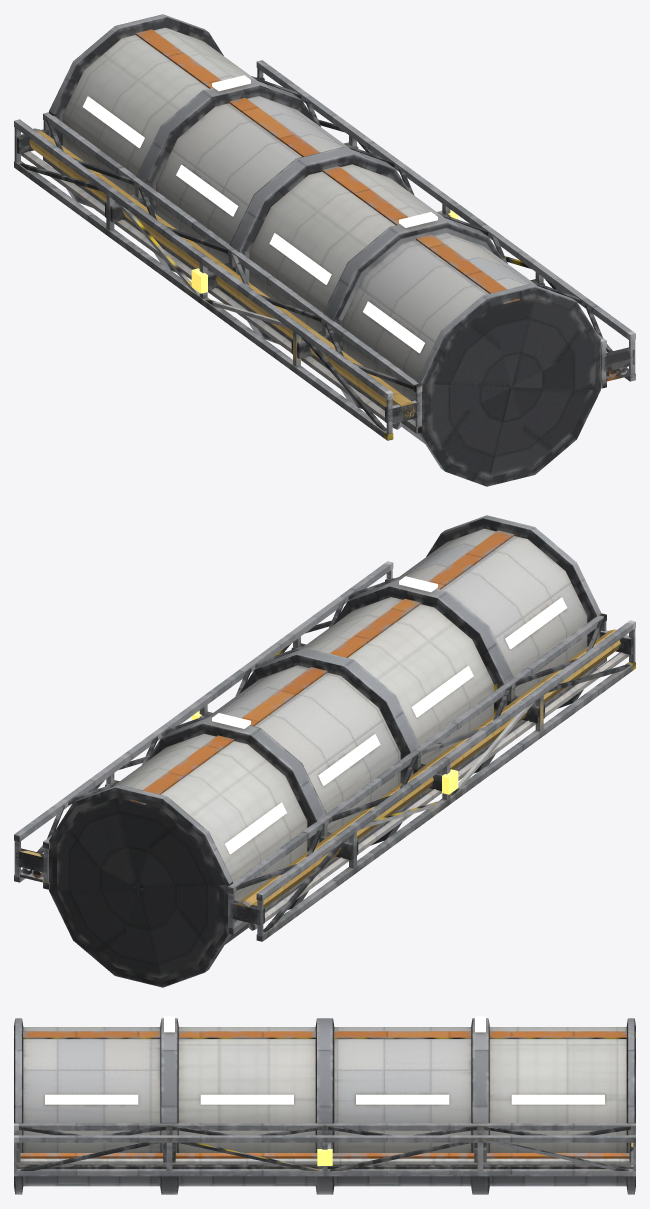
The model's file is corridor_segment.glb.
The picture shows the model from 3 angles, top to bottom: view 1: azimuth 30°, elevation 25°; view 2: azimuth 150°, elevation 25°; view 3: azimuth 270°, elevation 25°; orthographic projection. The views are drawn at different scales.
Visible parts, largest first — view 1: corridor_segment_mesh; view 2: corridor_segment_mesh; view 3: corridor_segment_mesh.
Part boxes in pixels (x1=…): corridor_segment_mesh: x1=14, y1=14, x2=635, y2=486; corridor_segment_mesh: x1=14, y1=515, x2=635, y2=987; corridor_segment_mesh: x1=14, y1=1016, x2=635, y2=1194.
Bounding box in the file's own units: 7.96 × 5.75 × 20.
Materials: 3 (1 with a texture image).
